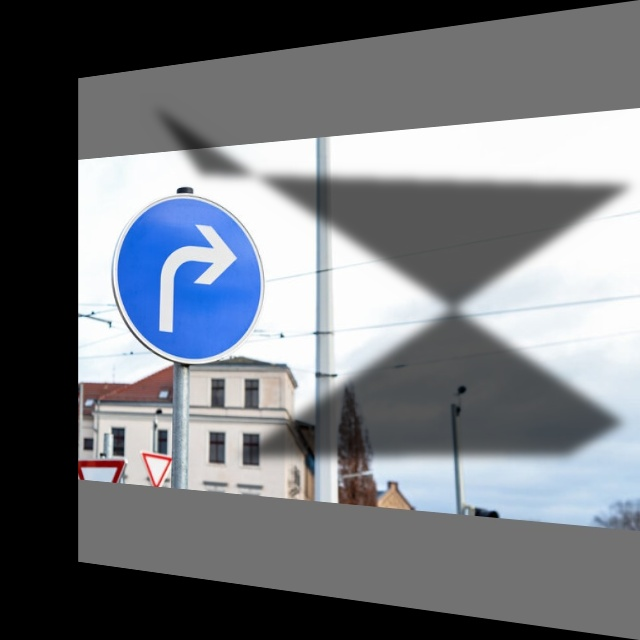Compulsory_Turn_Right_Ahead: (114, 188, 259, 367)
